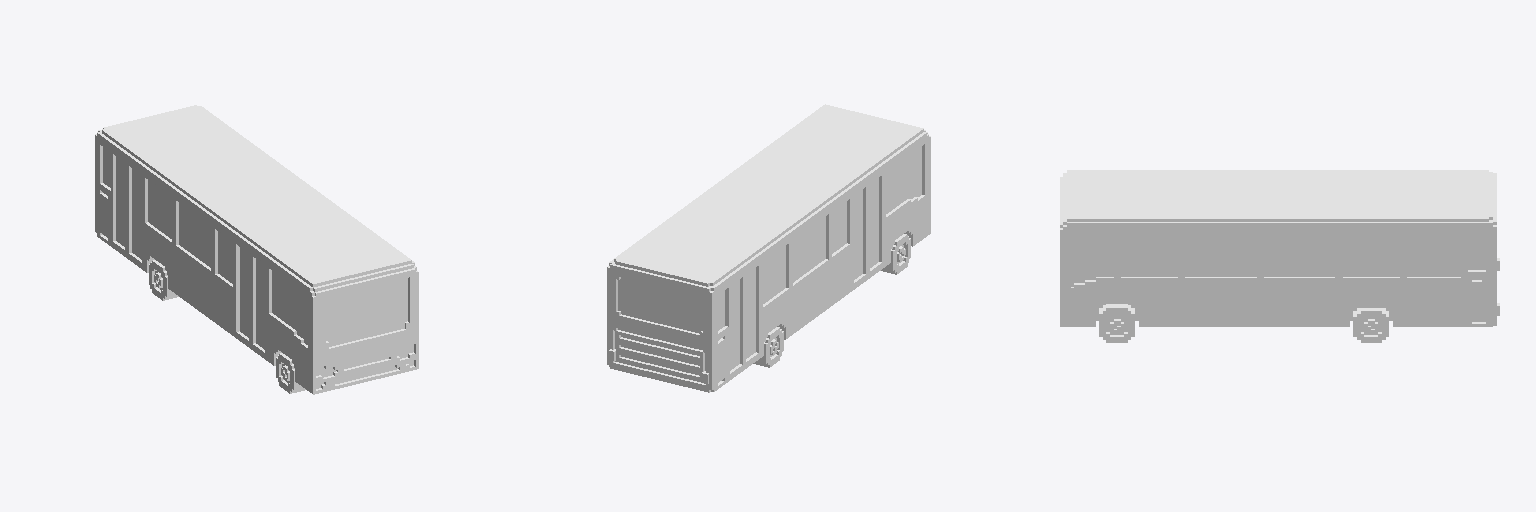
File: Bus_Mio.obj
3 renders of one model, left to right at view 1: azimuth 30°, elevation 25°; view 2: azimuth 150°, elevation 25°; view 3: azimuth 270°, elevation 25°, orthographic.
Visible parts, largest first — view 1: object 1; view 2: object 1; view 3: object 1.
Boxes of the visible parts, box(x1,y1,x2,y2) form: object 1: box(95, 105, 418, 394); object 1: box(607, 104, 930, 392); object 1: box(1060, 170, 1499, 342).
Size of the model in its own units: 3.4 by 3.8 by 12.3.